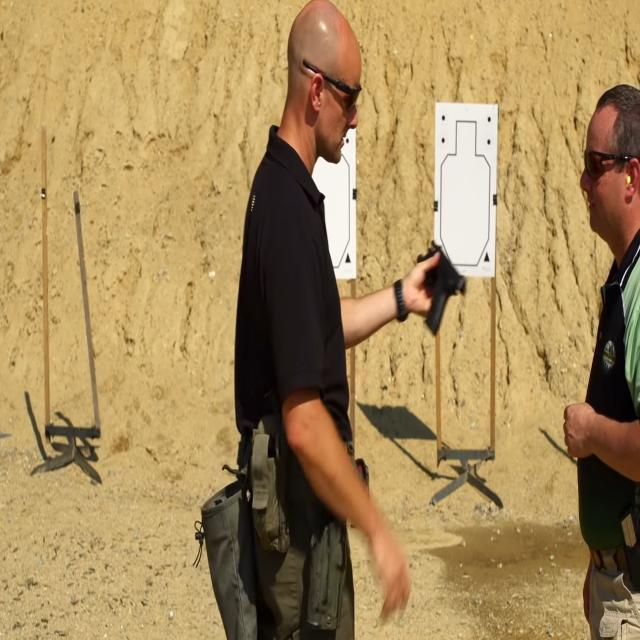Gun_Holder: (399, 228, 462, 321)
Person: (219, 4, 433, 640), (553, 46, 640, 628)
